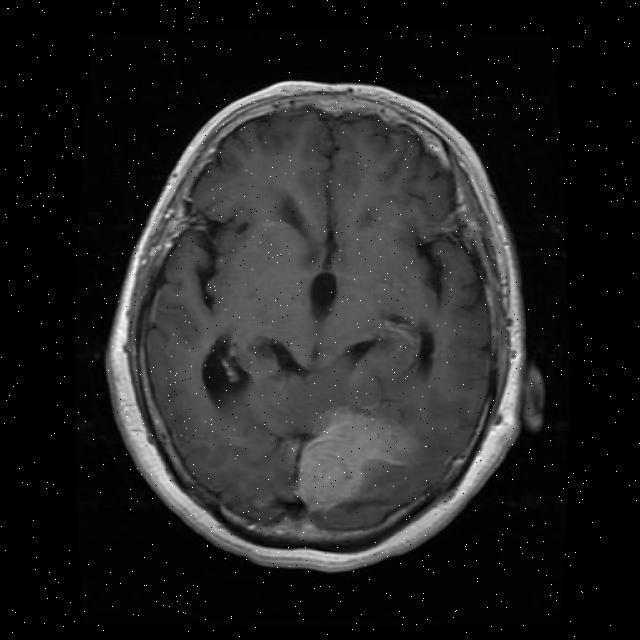Meningioma: (298, 409, 412, 513)
